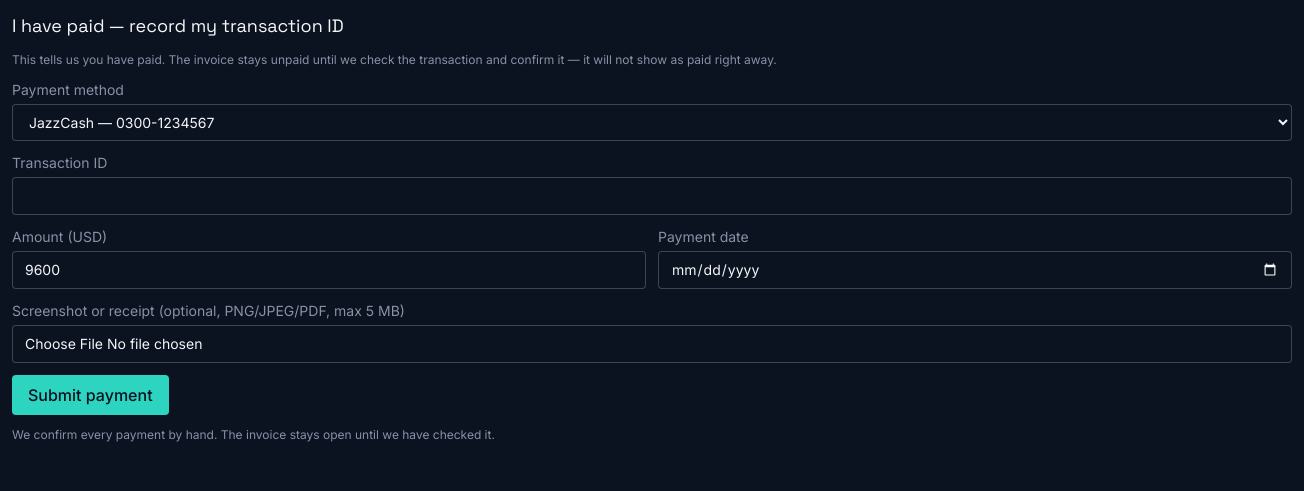
it: PaymentForm › defaults the amount to what is still owed and refuses an empty transaction id
Expected: the number field labelled "Amount (USD)" holds "9600", [12,251,646,289]
Click the button "Submit payment" at [90, 395], box [12,375,169,415]
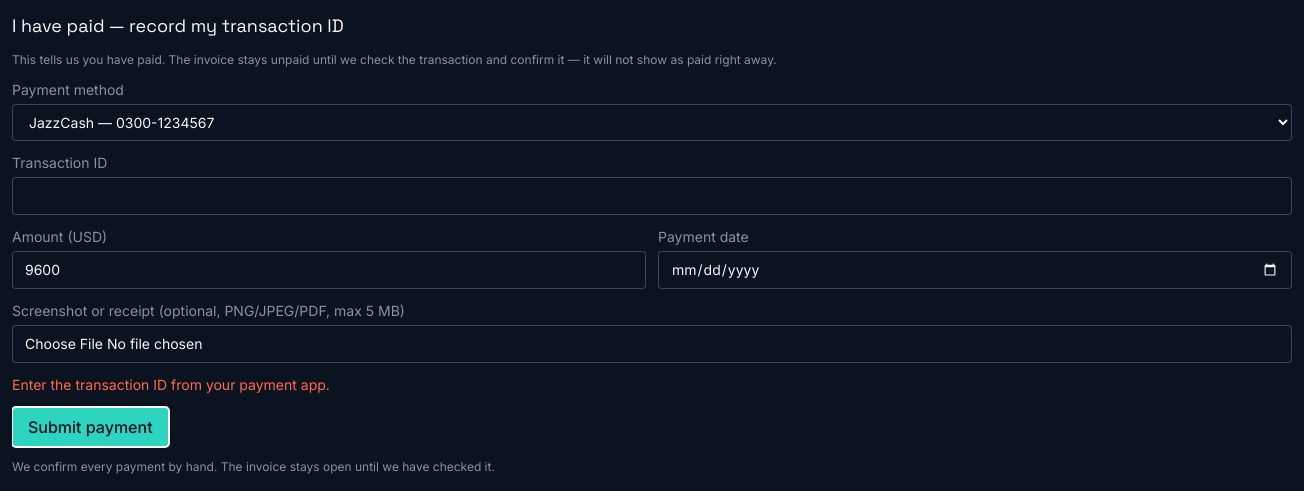
Expected: the message shows "transaction ID", [12,376,330,393]
